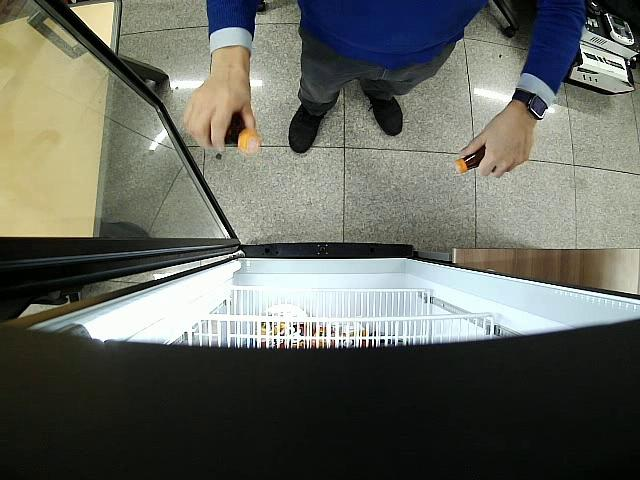00_hand: (183, 52, 255, 154), (457, 103, 533, 180)
17_vita500: (209, 111, 261, 154), (455, 142, 486, 174)
